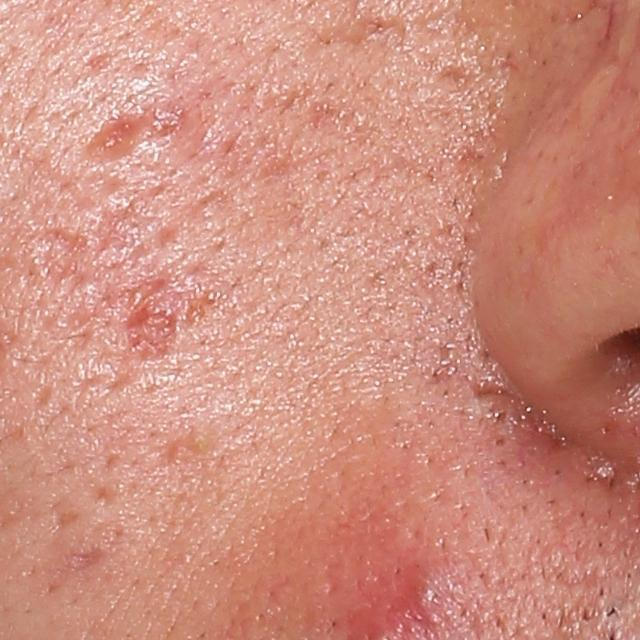atrophic_scar: (77, 108, 166, 167), (320, 11, 401, 52), (30, 227, 85, 286), (47, 545, 109, 590)
